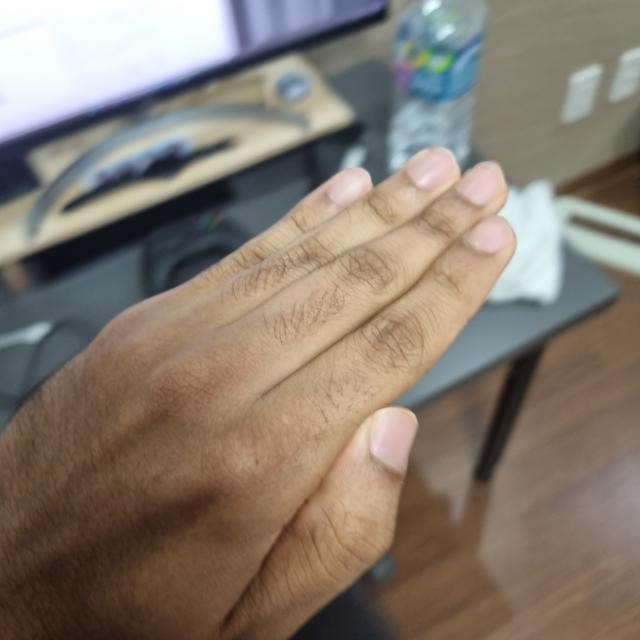Paper: (1, 154, 516, 639)
